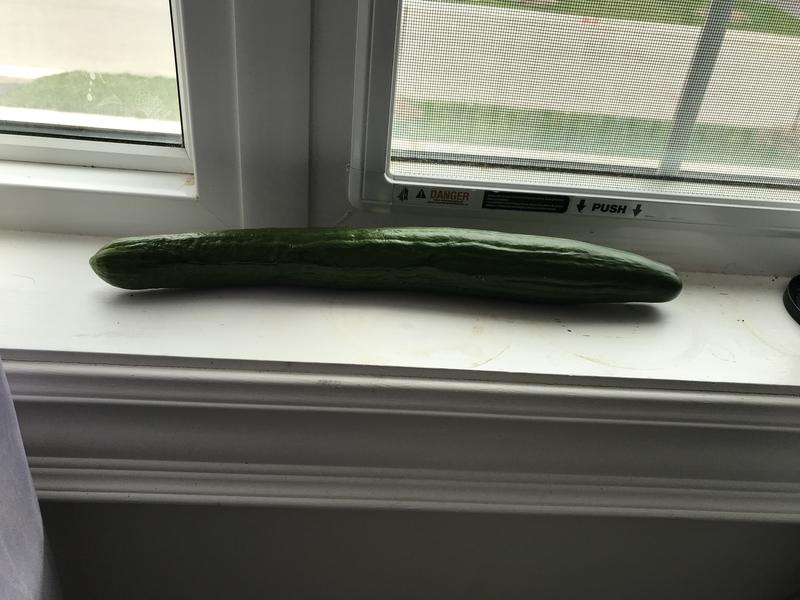cucumber: (80, 221, 688, 319)
